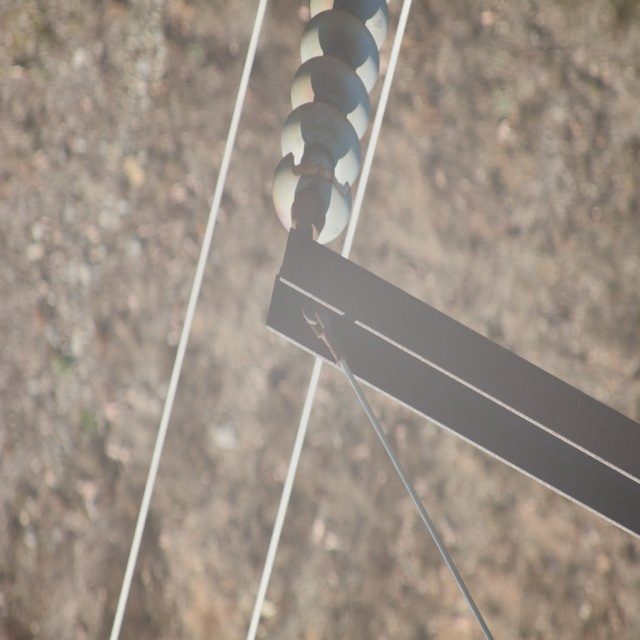broken: (286, 148, 351, 201)
insulator: (272, 0, 390, 247)
